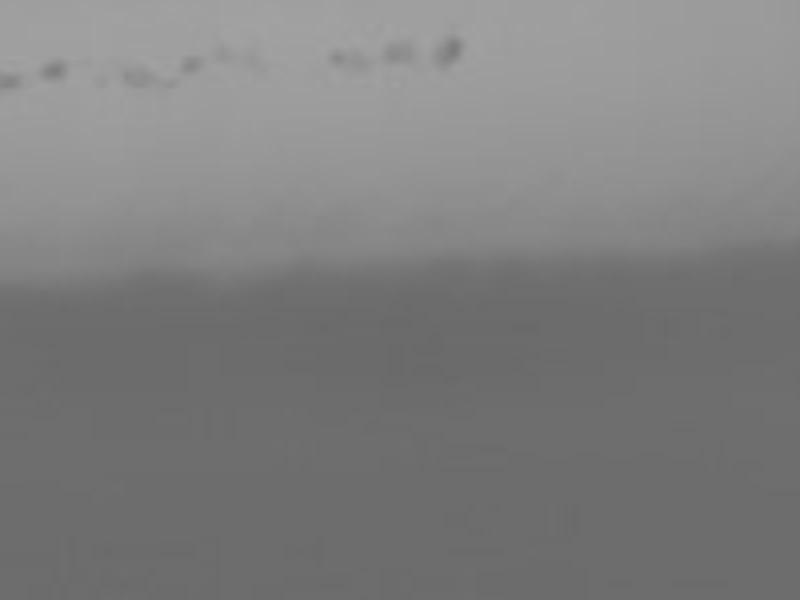defect: (433, 32, 470, 71), (381, 33, 421, 69), (327, 45, 371, 77), (204, 31, 234, 69), (123, 61, 157, 87), (243, 47, 271, 78), (178, 54, 206, 78), (40, 58, 68, 80), (1, 73, 20, 93), (163, 74, 181, 91), (92, 76, 111, 90)
